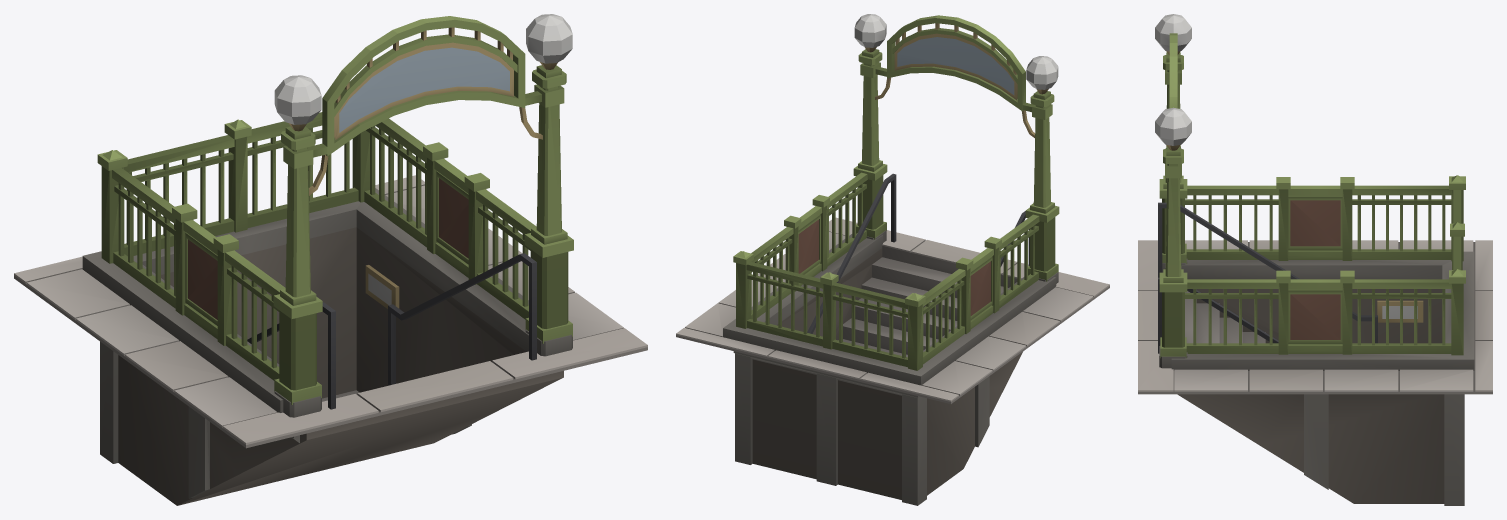
Rendered from subway.glb.
The picture shows the model from 3 angles, left to right: view 1: azimuth 30°, elevation 25°; view 2: azimuth 150°, elevation 25°; view 3: azimuth 270°, elevation 25°; orthographic projection. The views are drawn at different scales.
Parts seen in each view (by area): view 1: subway; view 2: subway; view 3: subway.
Part boxes in pixels (x1,y1,x2,y2): subway: [14, 14, 647, 505]; subway: [676, 14, 1109, 505]; subway: [1138, 14, 1492, 505].
Bounding box in the file's own units: 4 × 5.14 × 4.
